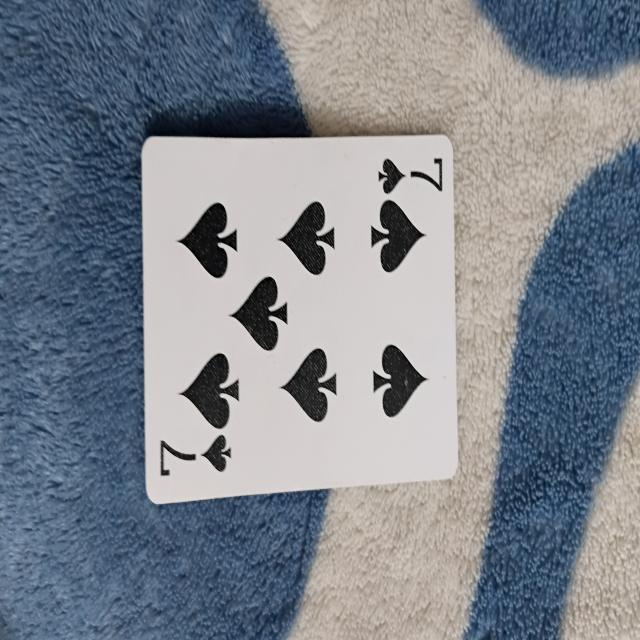7S: (153, 149, 457, 487)
